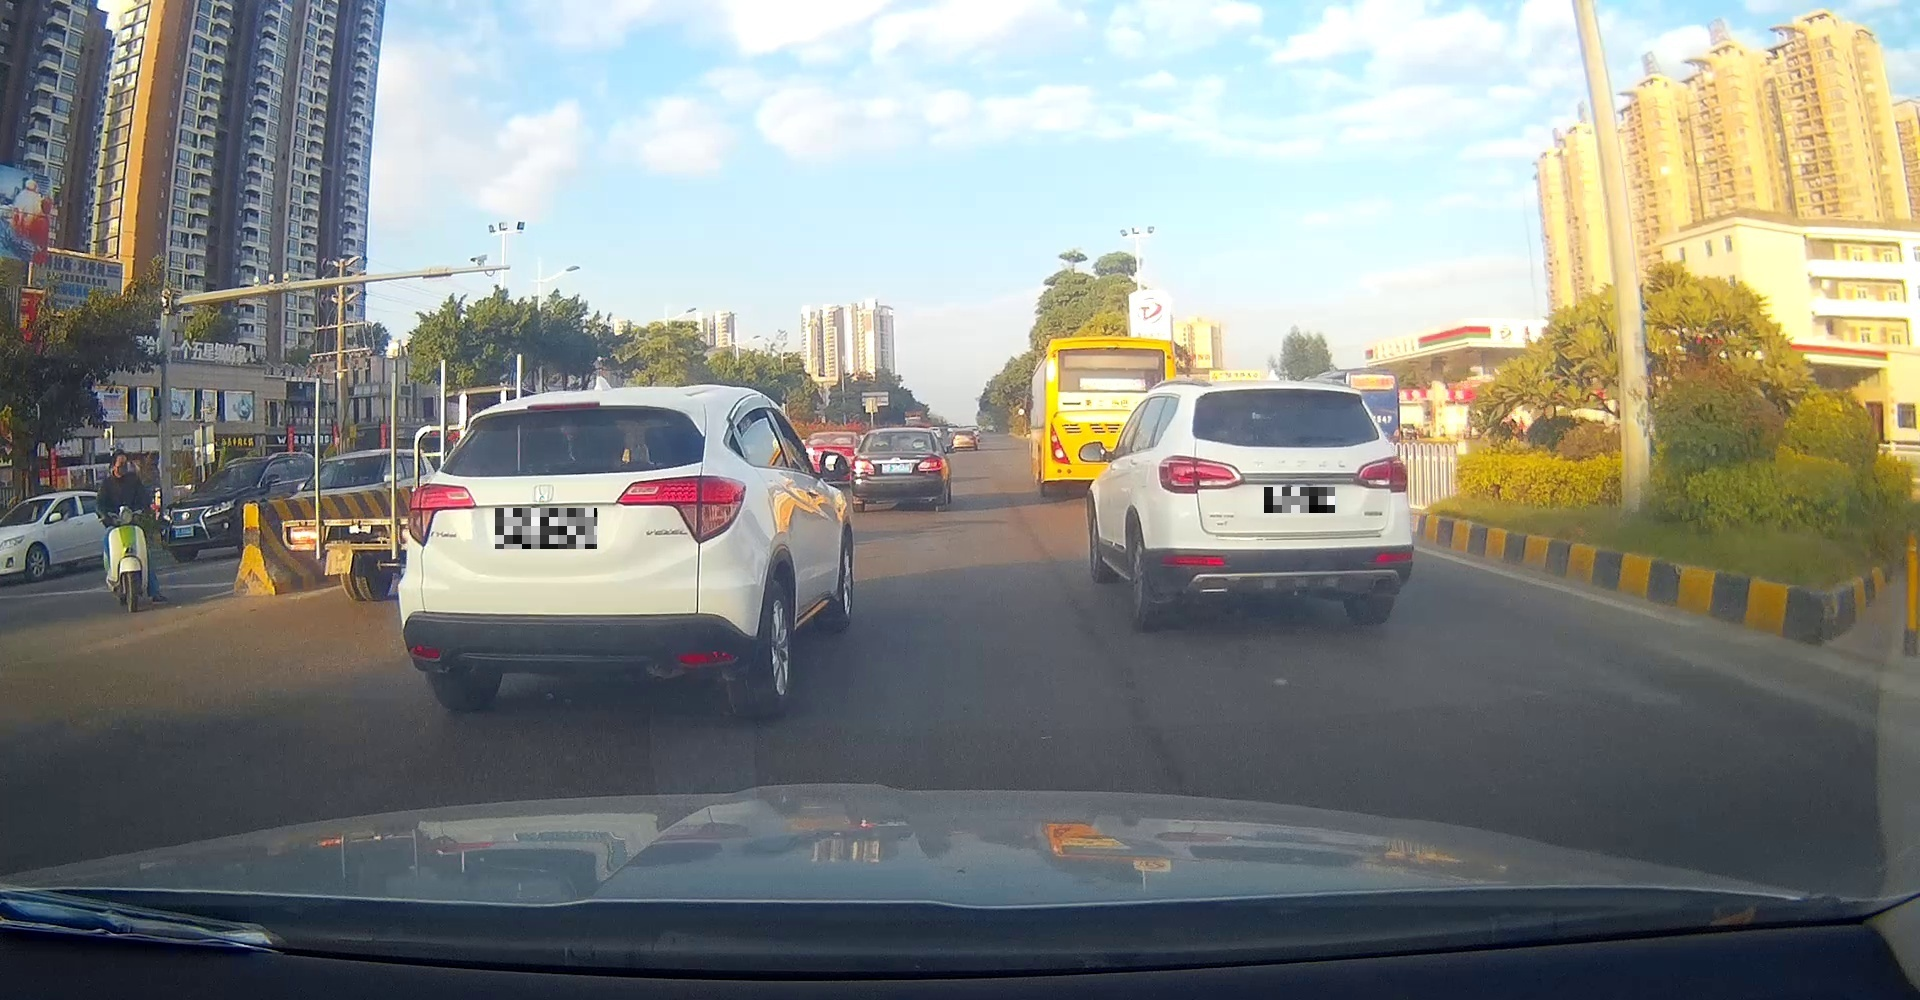L_light: (408, 484, 477, 547), (1157, 456, 1244, 494), (850, 456, 875, 475)
R_light: (615, 475, 747, 544), (1352, 456, 1408, 492), (917, 456, 943, 472)
T_light: (526, 401, 599, 411), (1267, 390, 1308, 395), (890, 448, 904, 451)
day-no: (397, 385, 757, 721), (1156, 378, 1415, 632), (850, 426, 946, 511)
plate_1: (495, 508, 597, 549)
plate_2: (1263, 487, 1335, 513)
